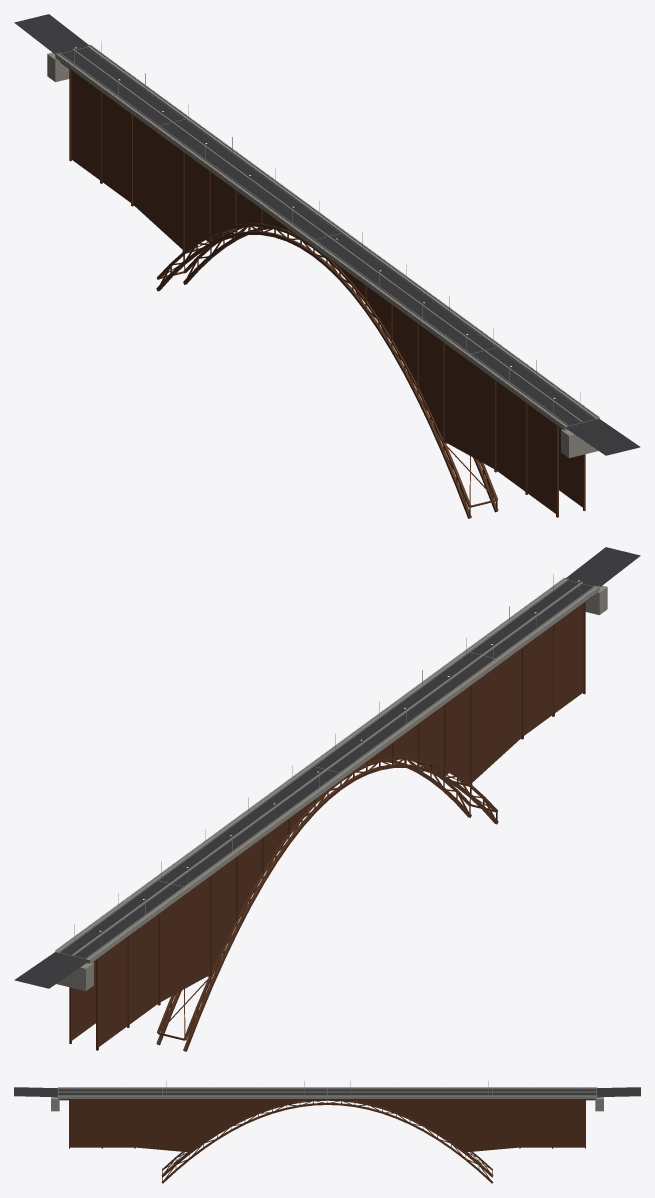
File: tf_perrine_lookalike_bridge_v3.glb
3 renders of one model, top to bottom at view 1: azimuth 30°, elevation 25°; view 2: azimuth 150°, elevation 25°; view 3: azimuth 270°, elevation 25°, orthographic. The views are drawn at different scales.
Parts seen in each view (by area): view 1: bridge_card, bridge_road, bridge_conc, bridge_steel, bridge_rail; view 2: bridge_card, bridge_road, bridge_conc, bridge_steel, bridge_rail; view 3: bridge_card, bridge_conc, bridge_road, bridge_steel.
Boxes of the visible parts, x1,y1,x2,y2 form: bridge_card: [71, 71, 582, 513]; bridge_road: [14, 14, 640, 455]; bridge_conc: [47, 45, 599, 458]; bridge_steel: [60, 62, 585, 518]; bridge_rail: [55, 41, 599, 425]; bridge_card: [72, 604, 583, 1046]; bridge_road: [14, 547, 640, 988]; bridge_conc: [55, 578, 607, 991]; bridge_steel: [69, 595, 594, 1051]; bridge_rail: [55, 574, 599, 958]; bridge_card: [70, 1100, 584, 1152]; bridge_conc: [51, 1087, 603, 1111]; bridge_road: [14, 1087, 640, 1097]; bridge_steel: [59, 1099, 595, 1183].
Size of what is drawn, in the model's own units: 21.7 by 97.41 by 575.
